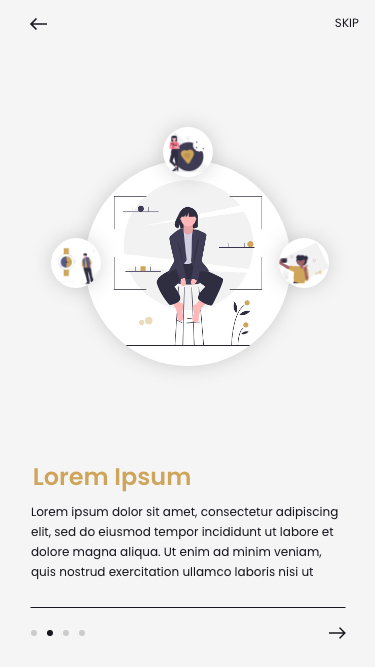Icon: (30, 18, 49, 32), (329, 626, 347, 639)
Image: (51, 127, 331, 368)
PageIndicator: (31, 629, 87, 637)
Text: (31, 506, 339, 580), (34, 467, 191, 493), (334, 17, 360, 29)
